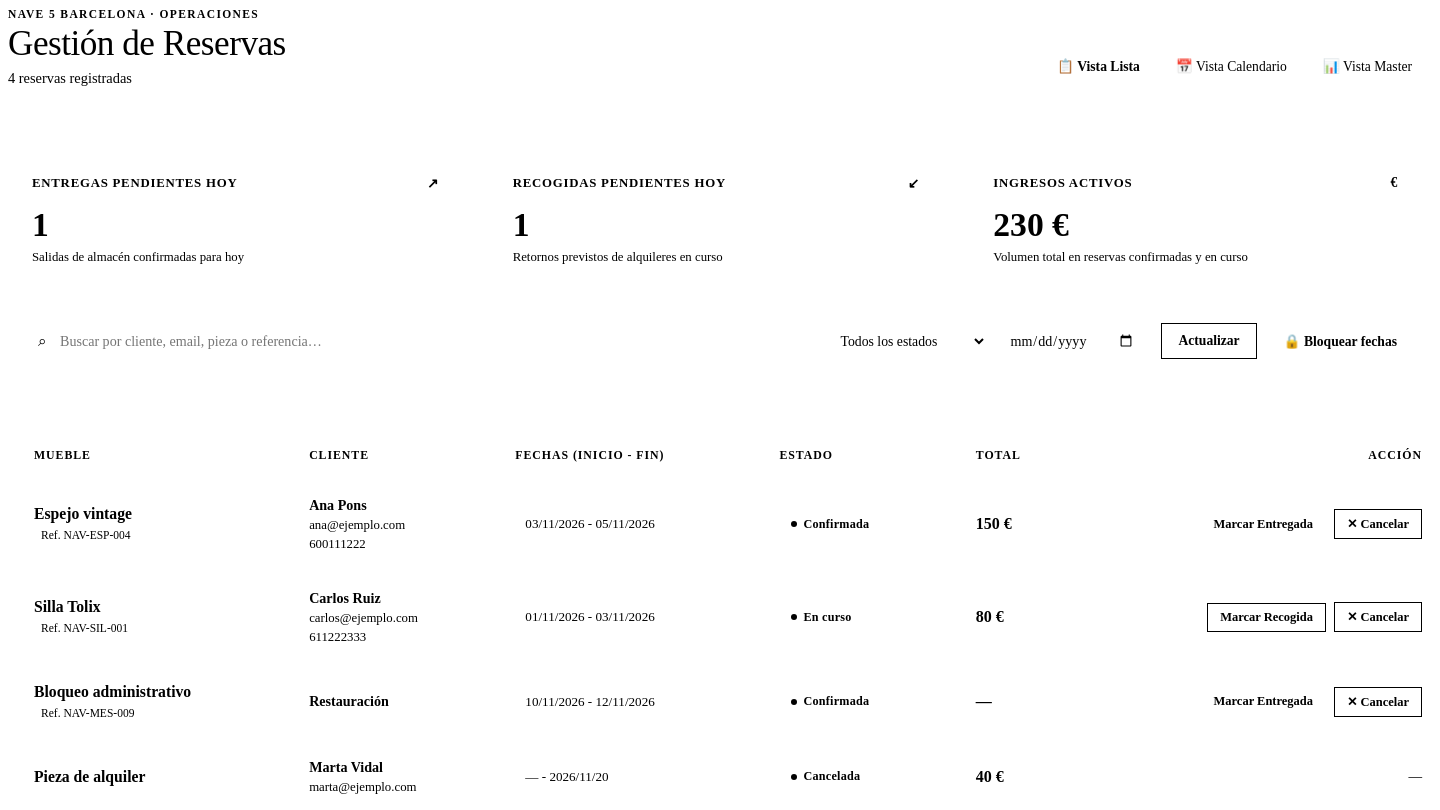
Test: ReservasTab — cobertura de casos restantes › filtros › busca por email, teléfono y motivo de bloqueo, y «Limpiar filtros» lo deshace
The width and height of the screenshot is (1440, 810).
expect the button "Actualizar" is enabled: met, box [1162,324,1257,360]
Type "marta@" into the search field named "Buscar reservas".
click(419, 342); type("marta@")  # box [26,324,812,359]
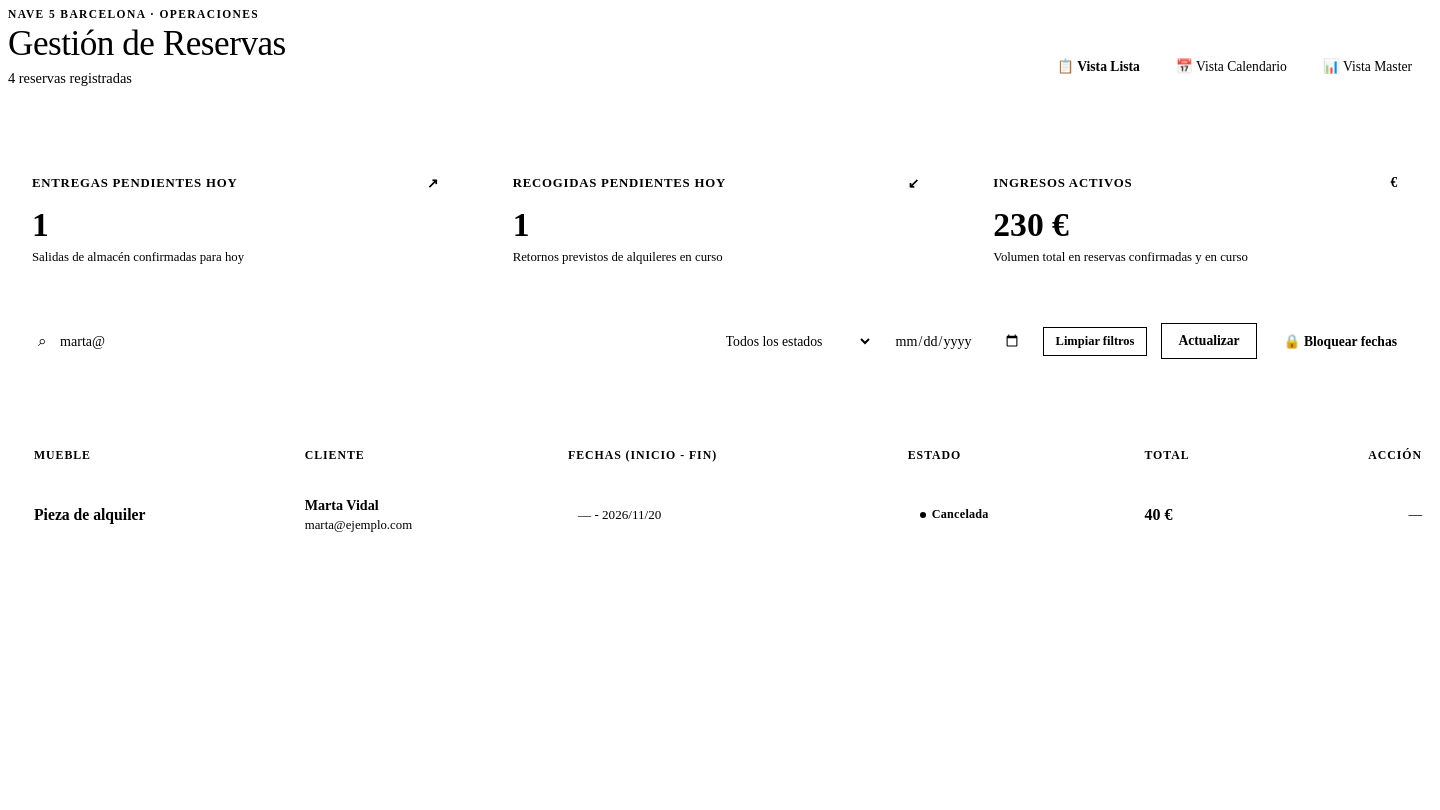
expect the text "Marta Vidal" is shown: met, box [305,497,379,513]
expect the text "Espejo vintage" is gone: met
Replace the text in the search field named "Buscar reservas" with "611222" at {"x": 362, "y": 342}, box [26,324,698,359]
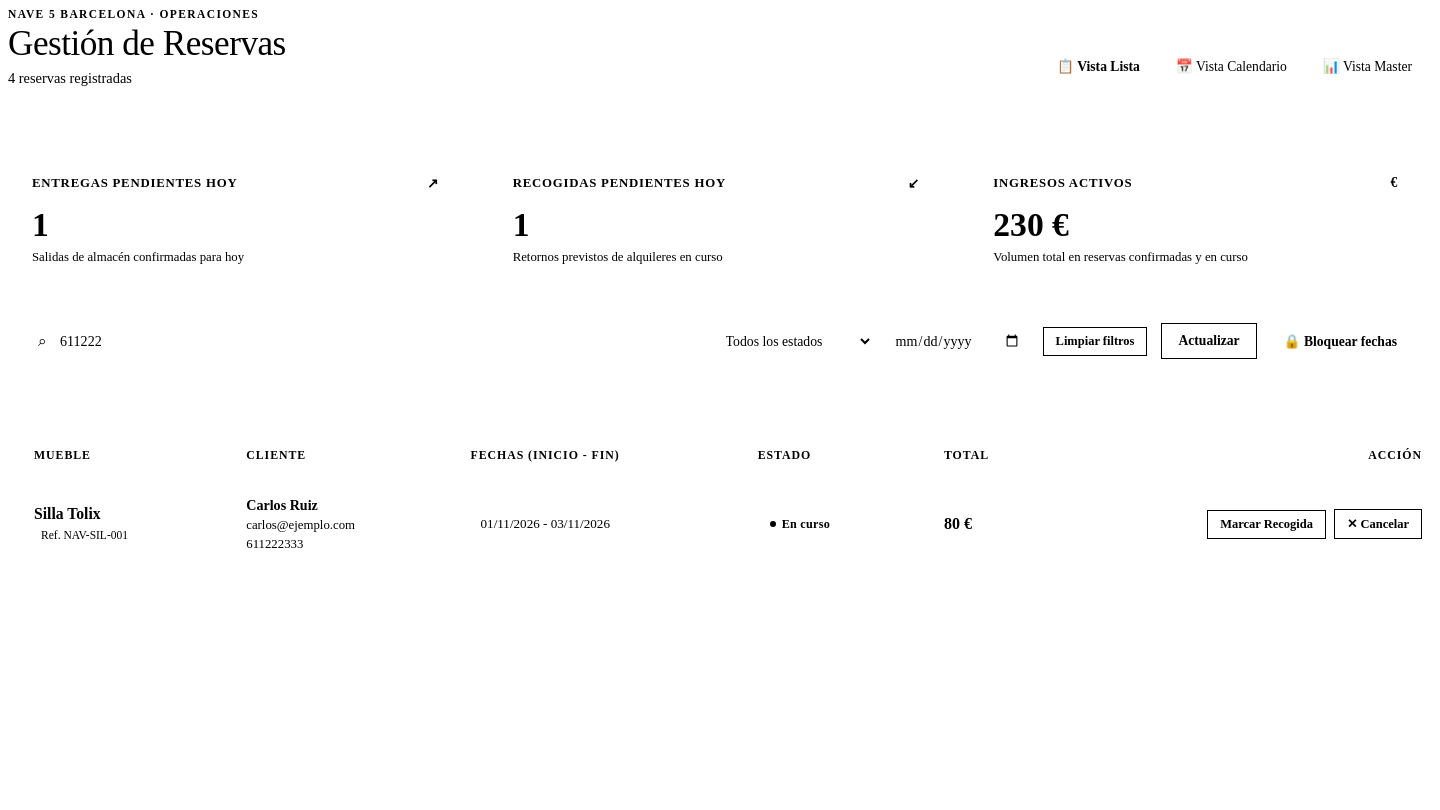
expect the text "Silla Tolix" is shown: met, box [34,506,101,522]
expect the text "Marta Vidal" is gone: met
Replace the text in the search field named "Buscar reservas" with "restaur" at {"x": 362, "y": 342}, box [26,324,698,359]
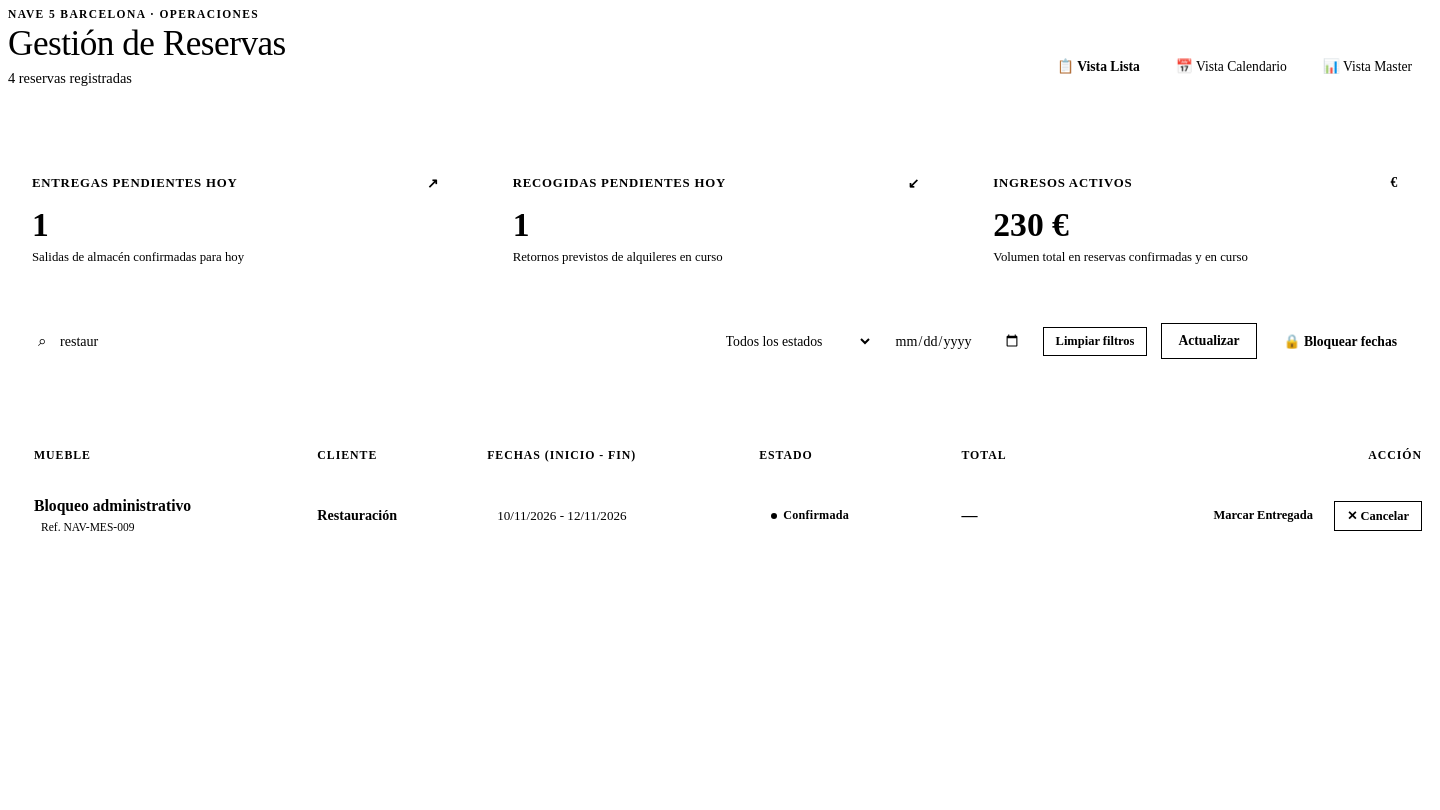
expect the text "Bloqueo administrativo" is shown: met, box [34,497,191,514]
expect the text "Silla Tolix" is gone: met
Replace the text in the search field named "Buscar reservas" with "nadie así" at {"x": 362, "y": 342}, box [26,324,698,359]
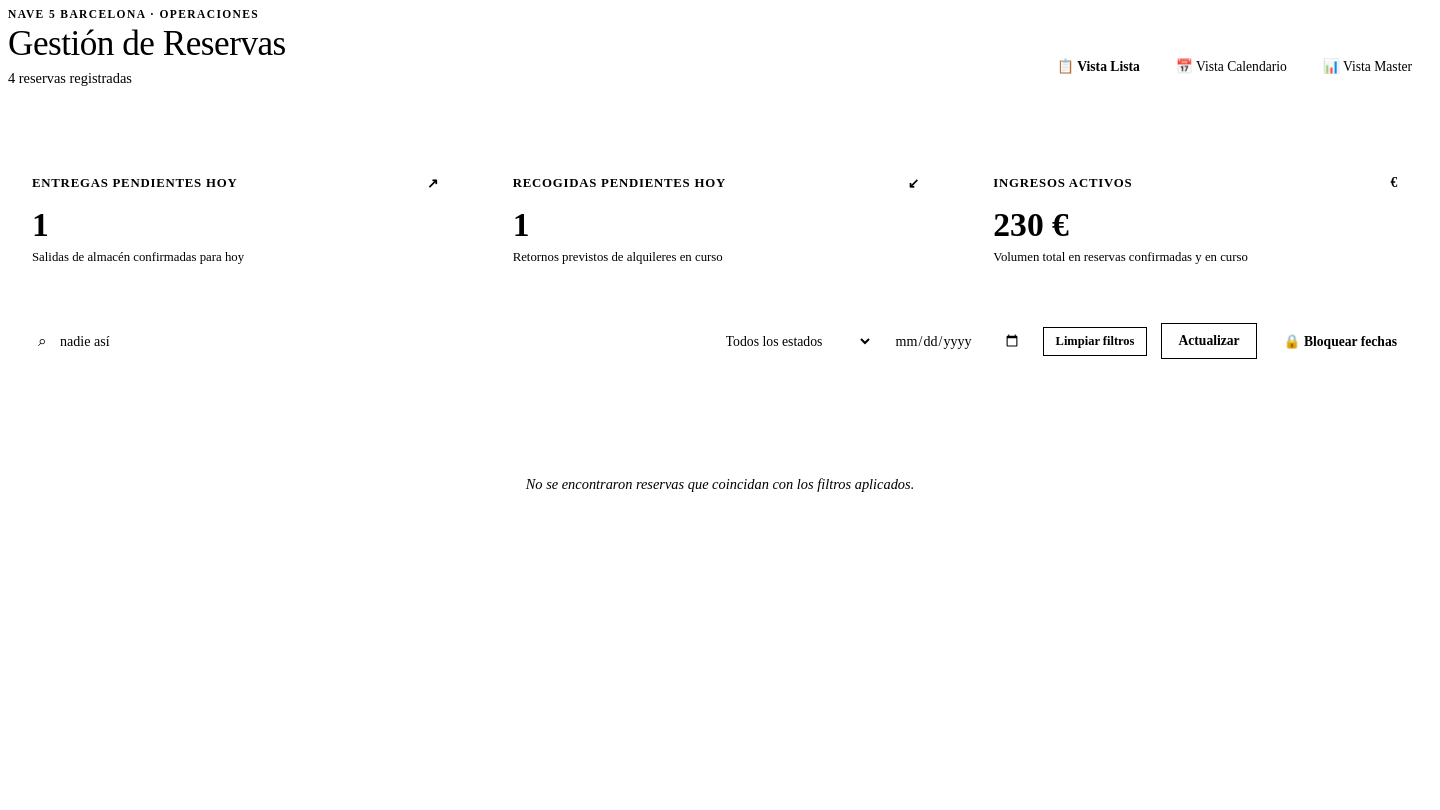
expect the text "No se encontraron reservas que coincidan con los filtros aplicados." is shown: met, box [526,476,914,492]
Click the button "Limpiar filtros".
click(1095, 342)  # box [1043,327,1148,356]
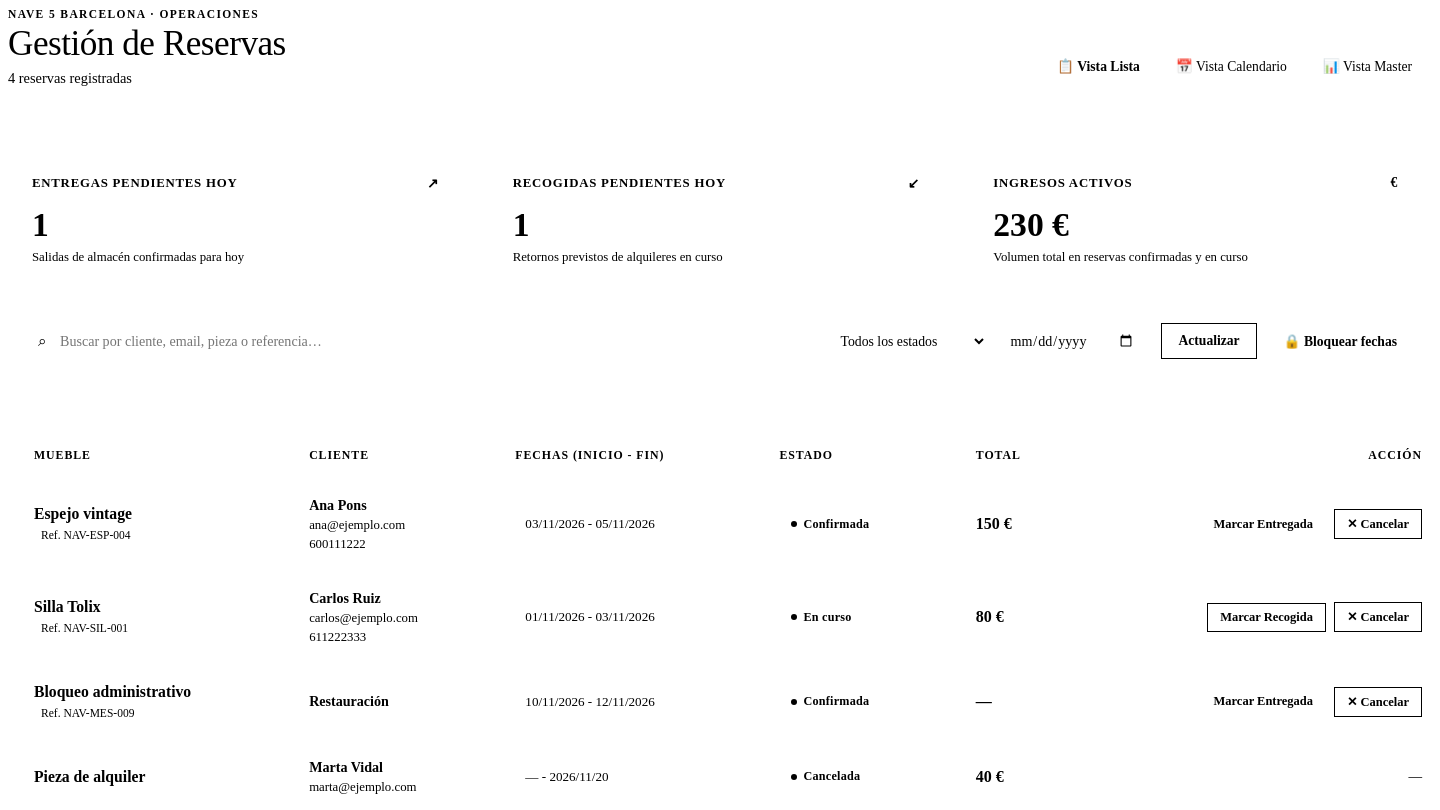
expect the search field named "Buscar reservas" is empty: met, box [26,324,812,359]
expect the text "Espejo vintage" is shown: met, box [34,506,132,522]
expect the button "Limpiar filtros" is gone: met
